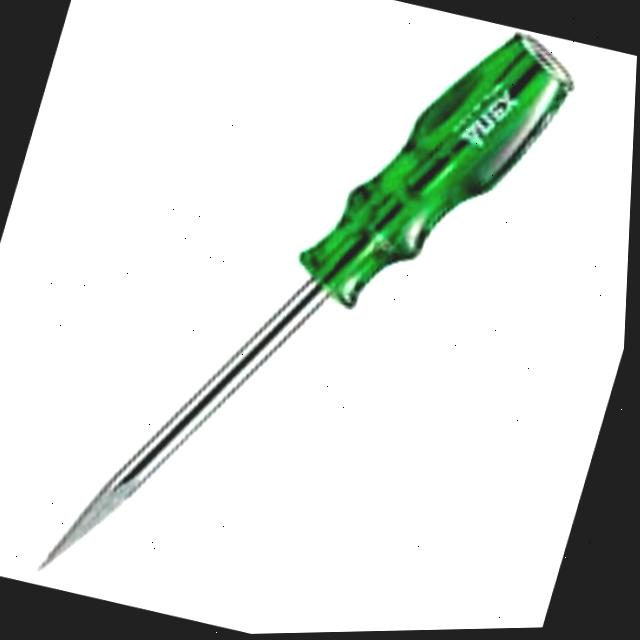ice pick: (32, 0, 586, 639)
